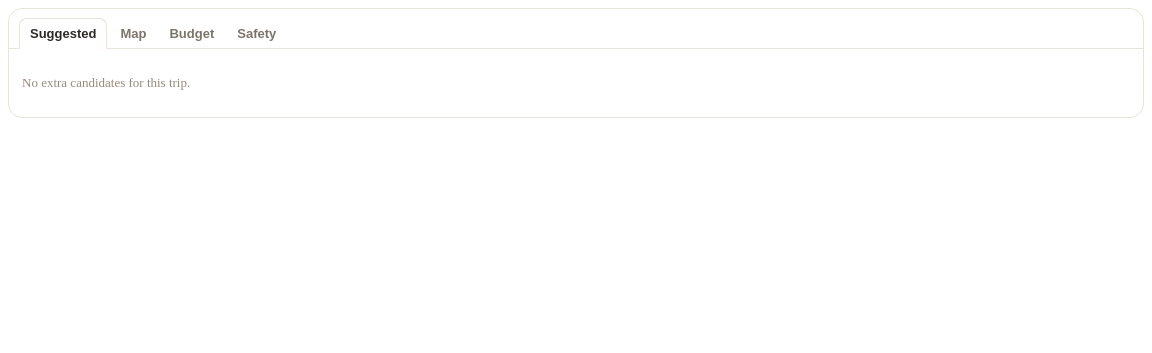
Scenario: #211: Safety tab renders trip/leg-level booking_links › renders all categories (lodging/transport/visa/health/insurance) together, not just one
The image size is (1152, 353).
What coordinates should you click on to do the following:
click the button "Safety"
I would click on:
 (257, 33)
Its box is [227, 18, 286, 48].
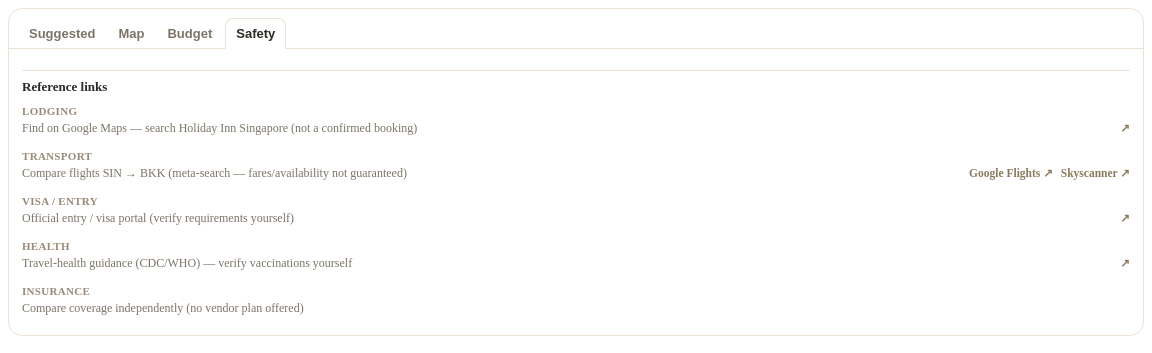
Expected: the element with test id "trip-booking-links" is shown
Expected: the element with test id "booking-link-group-lodging" is shown, [22, 97, 1130, 142]
Expected: the element with test id "booking-link-group-transport" is shown, [22, 142, 1130, 187]
